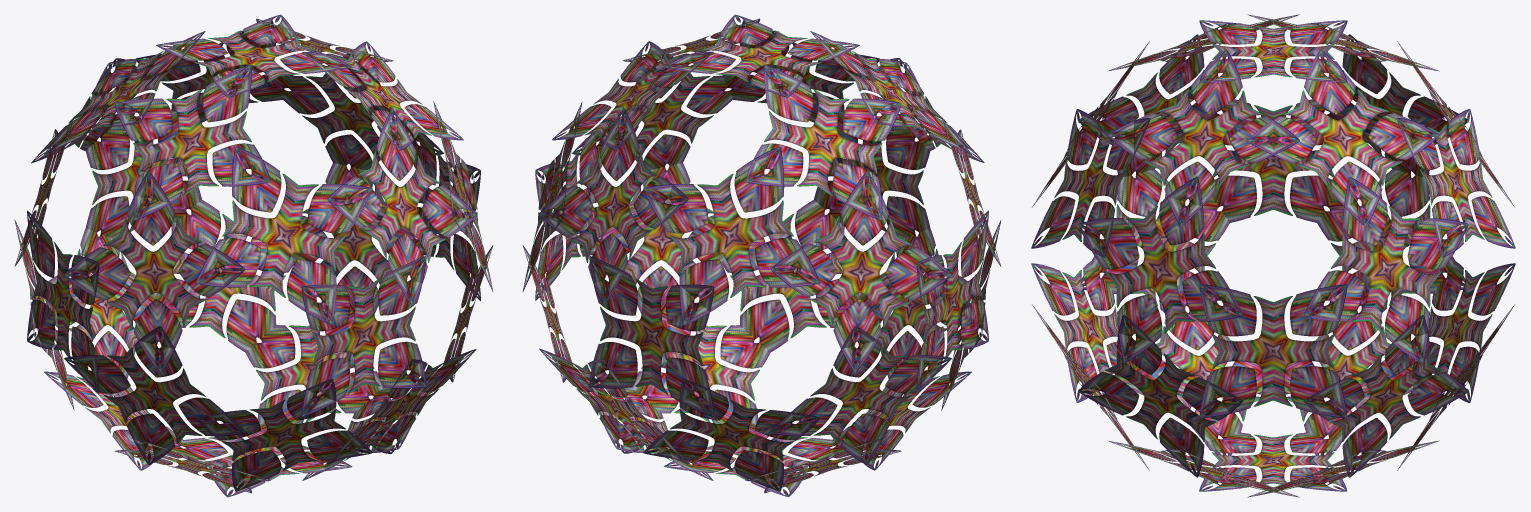
File: 2TruncatedDodecadodecahedron.gltf
3 views of the same model, side by side, from view 1: azimuth 30°, elevation 25°; view 2: azimuth 150°, elevation 25°; view 3: azimuth 270°, elevation 25° (orthographic). The views are drawn at different scales.
Parts seen in each view (by area): view 1: 1TruncatedDodecadodecahedron; view 2: 1TruncatedDodecadodecahedron; view 3: 1TruncatedDodecadodecahedron.
Part boxes in pixels (x1,y1,x2,y2): 1TruncatedDodecadodecahedron: [14, 14, 493, 497]; 1TruncatedDodecadodecahedron: [522, 14, 1001, 496]; 1TruncatedDodecadodecahedron: [1031, 14, 1515, 497].
Bounding box in the file's own units: 3.24 × 3.24 × 3.24.
1 material, 1 textured.
